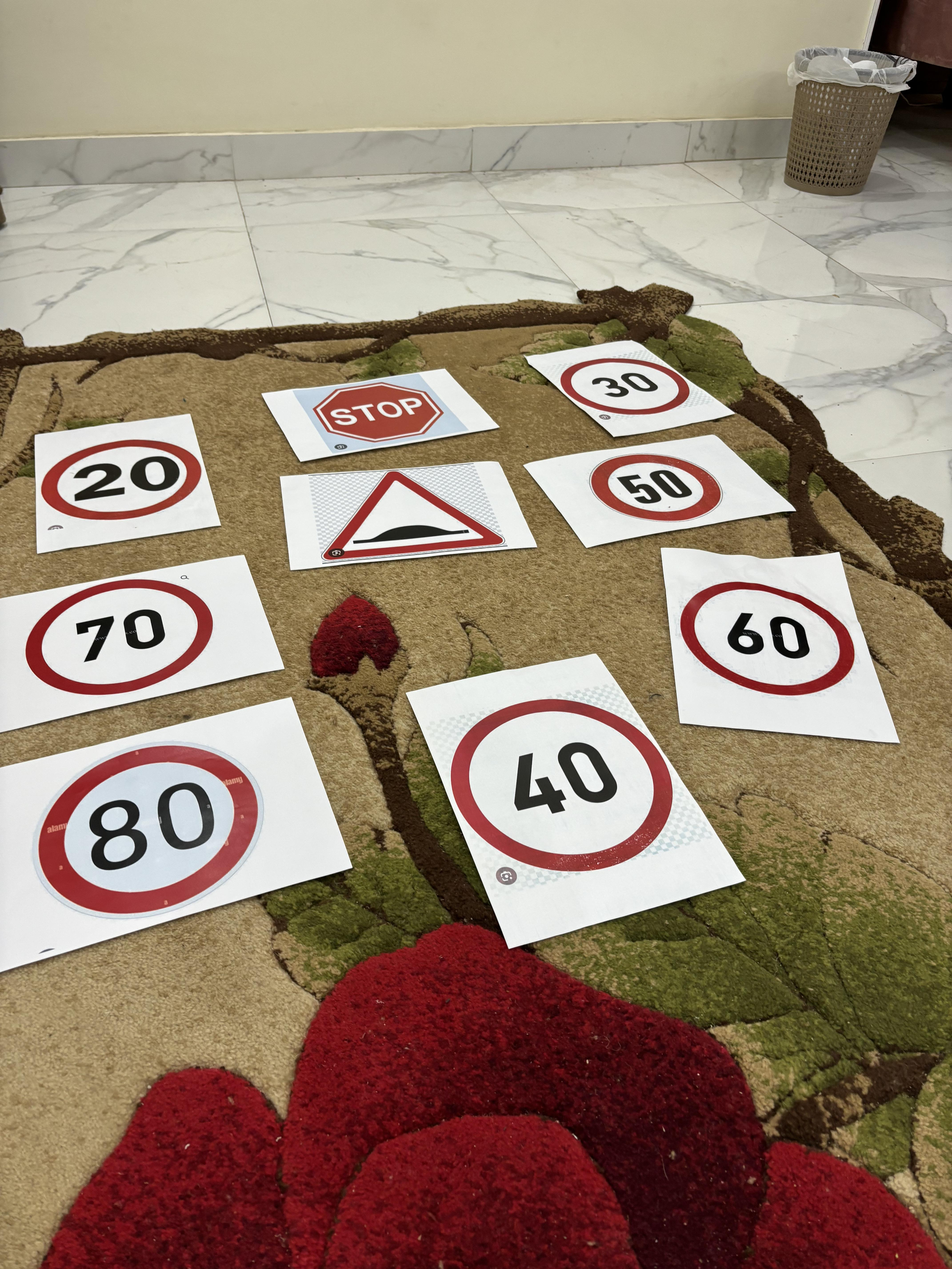20-Speed: (38, 429, 207, 529)
30-speed: (562, 354, 694, 419)
40-Speed: (450, 698, 672, 876)
50-Speed: (594, 449, 725, 525)
60-Speed: (676, 583, 860, 700)
70-Speed: (19, 571, 225, 700)
80-Speed: (29, 740, 267, 917)
Hump: (312, 469, 509, 572)
Stop: (306, 371, 458, 445)
